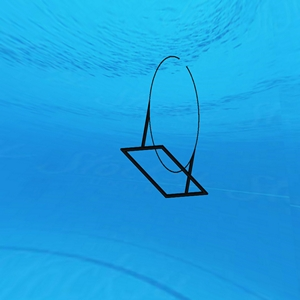circle: (120, 52, 217, 206)
